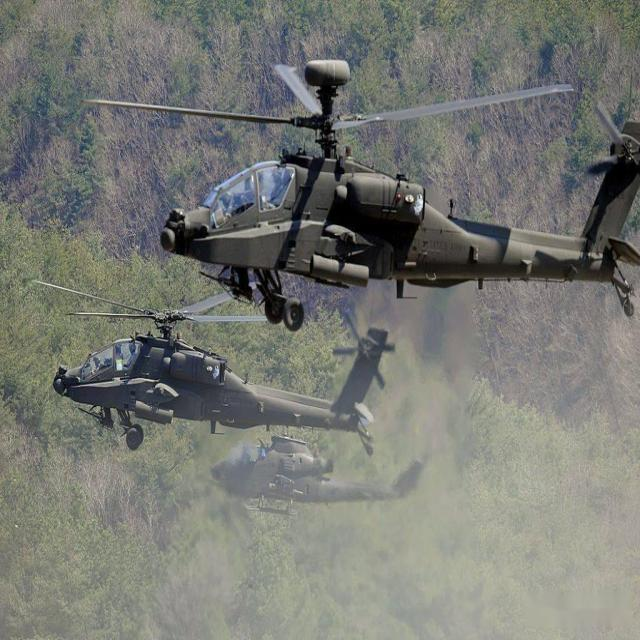MIL_HELO: (88, 38, 640, 354), (30, 264, 390, 476), (184, 400, 440, 542)
